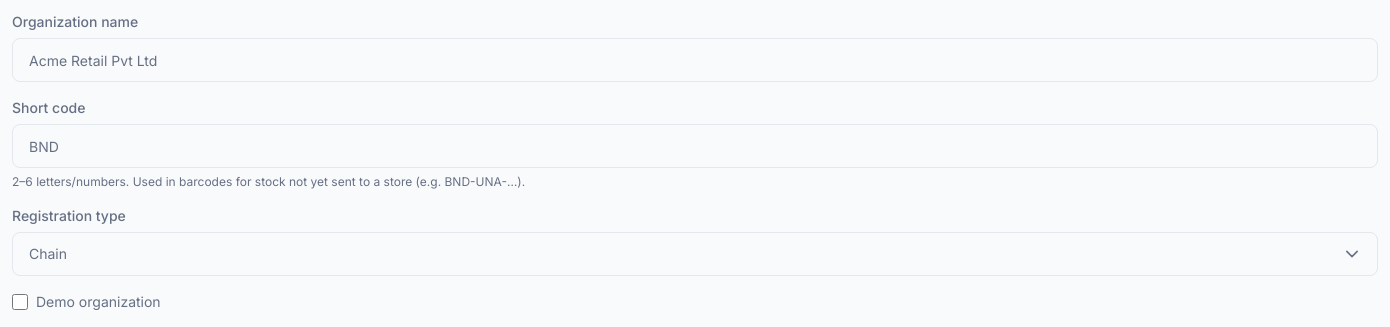
OrganizationCoreFields short code › suggests the name's initials while you type the name
In the field labelled "Organization name": (695, 60) [12,38,1378,82], type "Vasavi Cloth Store"
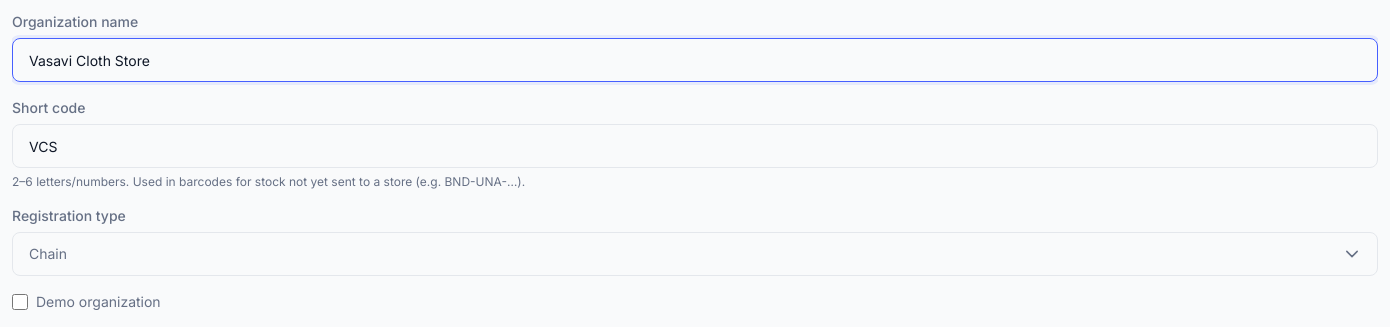
Expected: the field labelled "Short code" holds "VCS", [12,124,1378,168]
